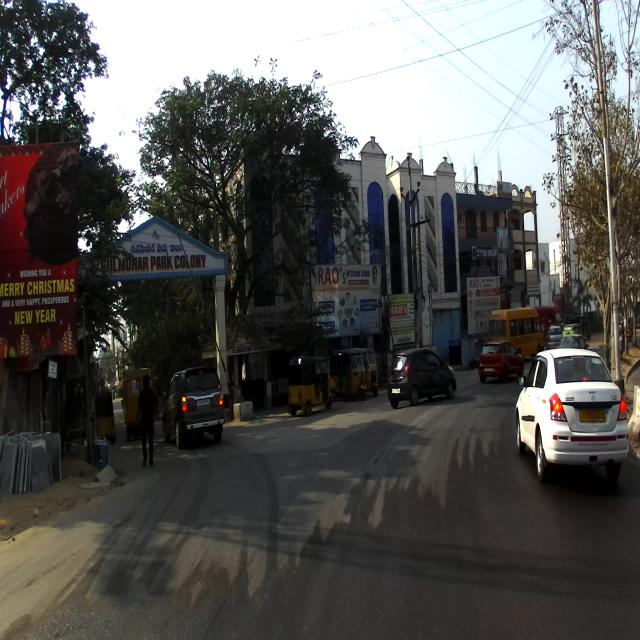auto ahead at: (287, 352, 335, 420), (341, 346, 368, 402)
car ahead at: (514, 344, 630, 481), (164, 364, 231, 448), (388, 346, 459, 414)
person ahead at: (132, 364, 158, 472)
stones ahead at: (2, 429, 66, 497)
